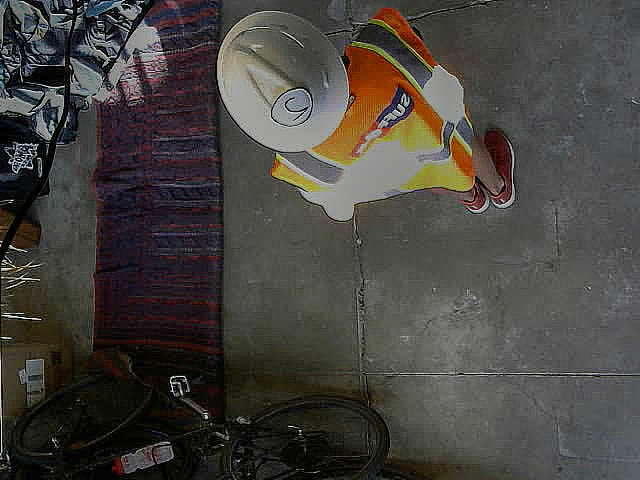two: (269, 88, 312, 127)
